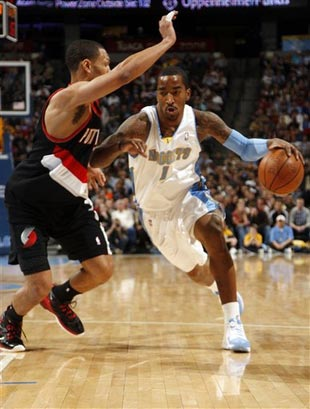ball: (258, 148, 305, 196)
